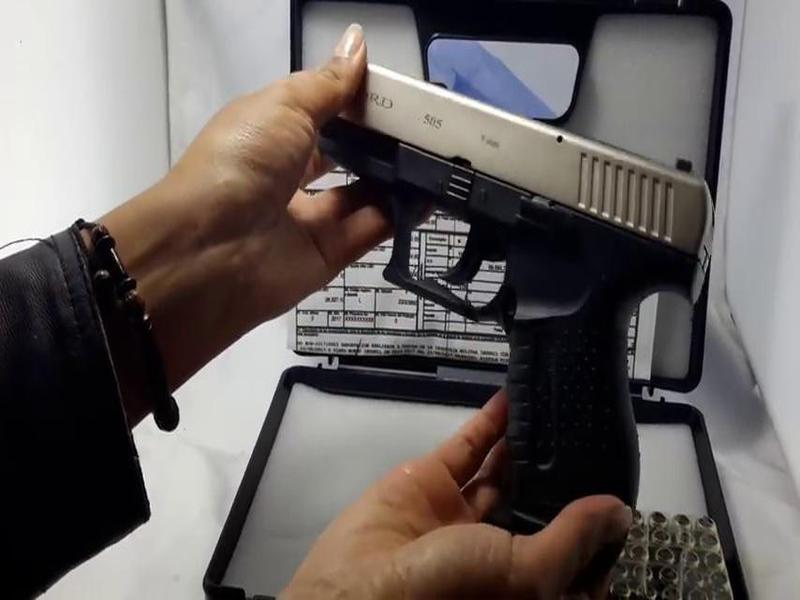Pistola: (297, 35, 708, 535)
